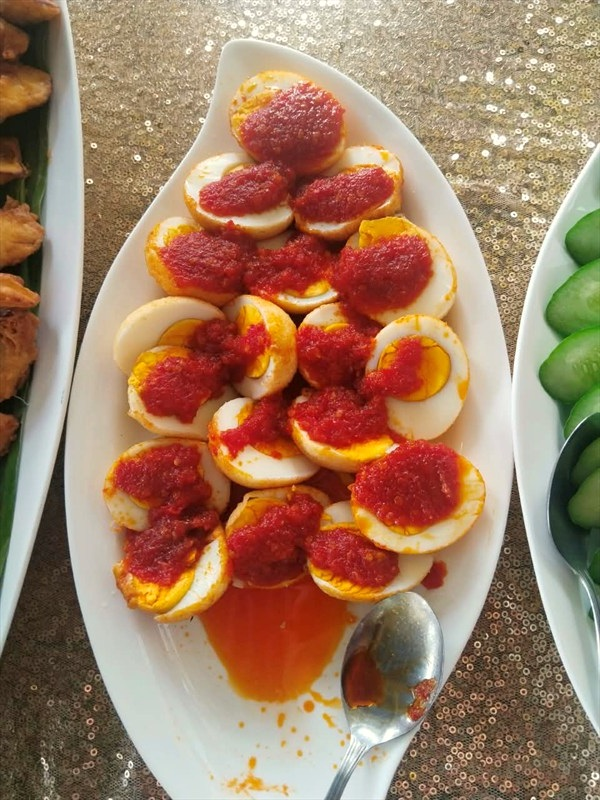Telur Balado: (118, 172, 471, 628)
